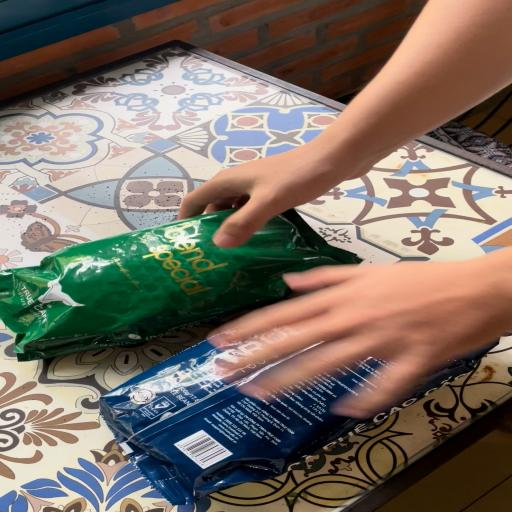cafe_hat: (100, 331, 474, 505)
cafe_xay: (0, 210, 362, 361)
